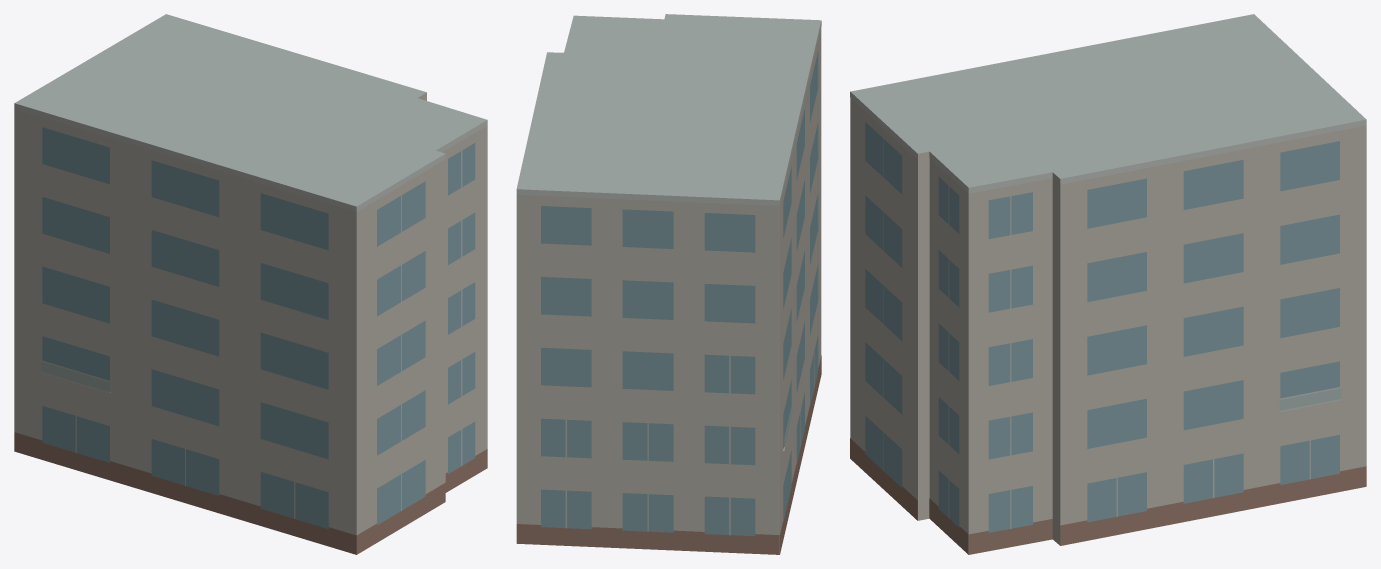
The model's file is survey-upis-32554940.glb.
The picture shows the model from 3 angles, left to right: view 1: azimuth 30°, elevation 25°; view 2: azimuth 150°, elevation 25°; view 3: azimuth 270°, elevation 25°; orthographic projection. The views are drawn at different scales.
Parts seen in each view (by area): view 1: survey-upis-32554940.tmp; view 2: survey-upis-32554940.tmp; view 3: survey-upis-32554940.tmp.
Boxes of the visible parts, left/top/right/bottom form: survey-upis-32554940.tmp: left=14, top=14, right=487, bottom=554; survey-upis-32554940.tmp: left=516, top=14, right=821, bottom=554; survey-upis-32554940.tmp: left=850, top=14, right=1366, bottom=554.
Bounding box in the file's own units: 15.49 × 15.25 × 19.45.
